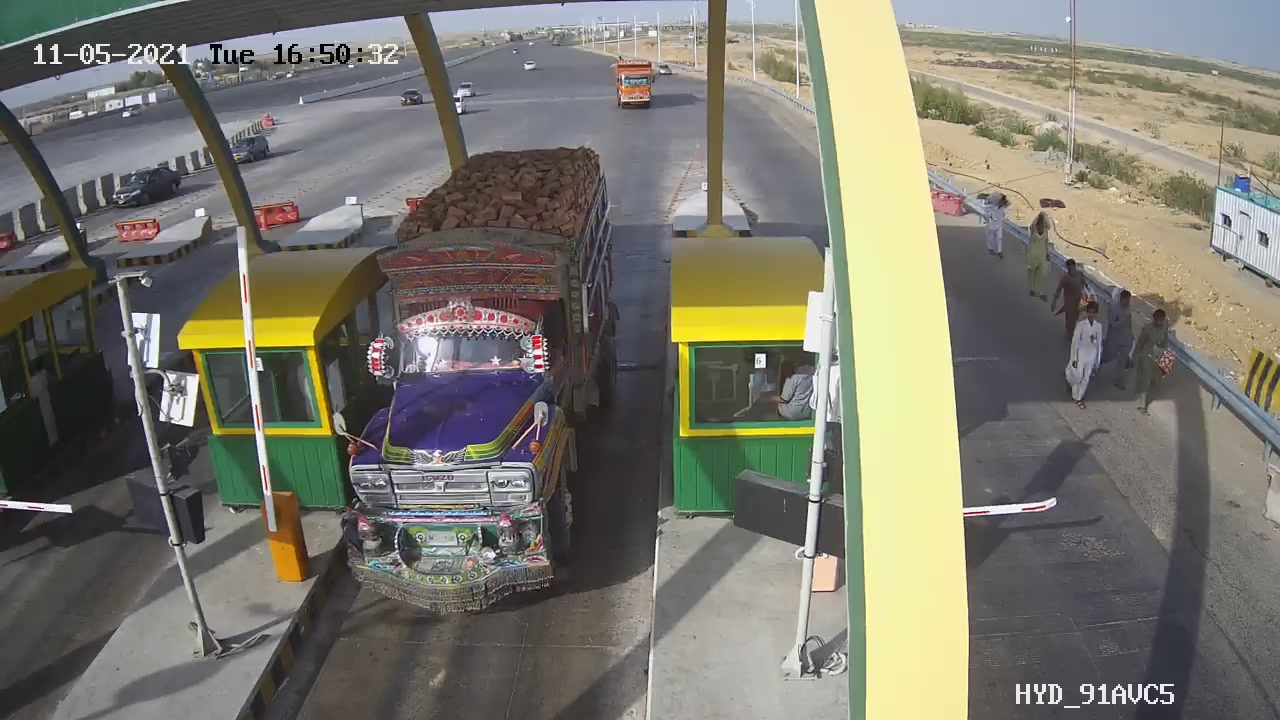F5: (315, 129, 637, 634)
